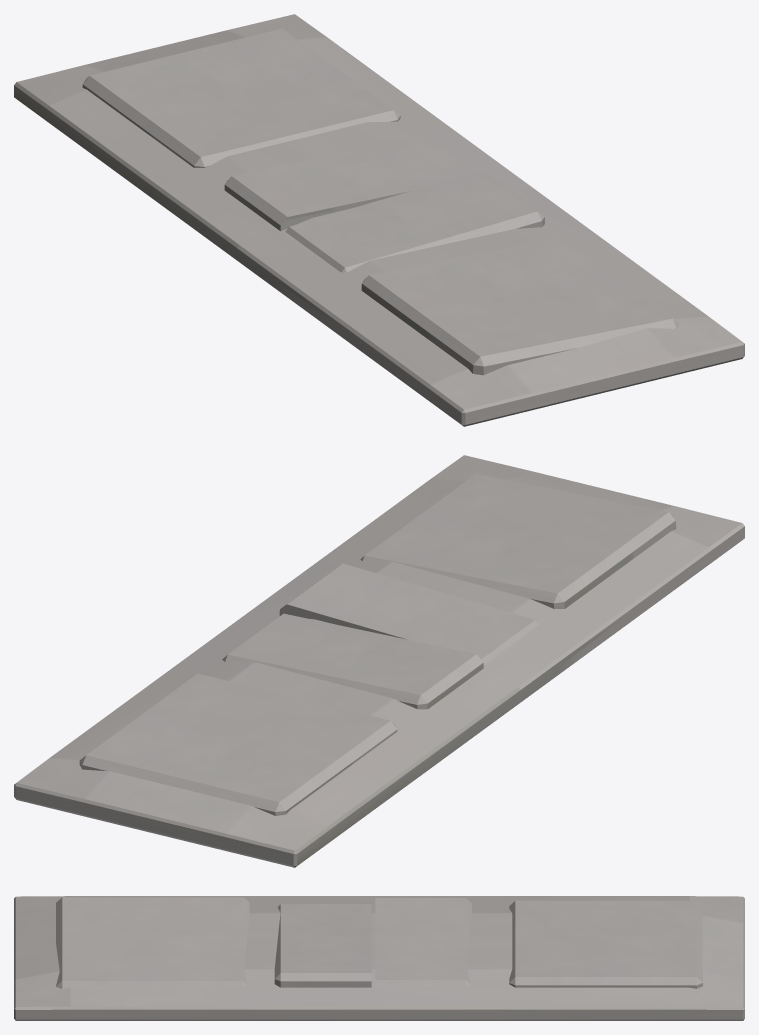
Rendered from kontakty_tablica_swiatlo.fbx.
3 views of the same model, one above another, from view 1: azimuth 30°, elevation 25°; view 2: azimuth 150°, elevation 25°; view 3: azimuth 270°, elevation 25° (orthographic). The views are drawn at different scales.
Visible parts, largest first — view 1: sama_sala:kontakty_tablica_swiatlo1; view 2: sama_sala:kontakty_tablica_swiatlo1; view 3: sama_sala:kontakty_tablica_swiatlo1.
Boxes of the visible parts, x1,y1,x2,y2 form: sama_sala:kontakty_tablica_swiatlo1: (14,14,744,426); sama_sala:kontakty_tablica_swiatlo1: (14,455,744,867); sama_sala:kontakty_tablica_swiatlo1: (14,896,744,1020).
Bounding box in the file's own units: 88.76 × 11.48 × 244.
